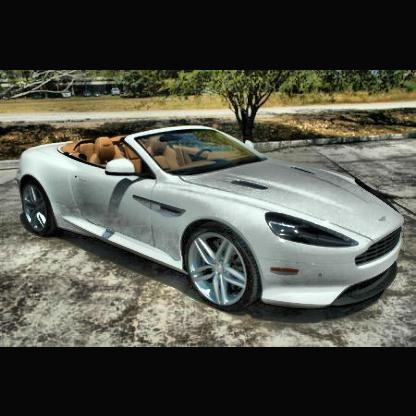Aston Martin Virage Convertible 2012: (18, 124, 407, 319)
